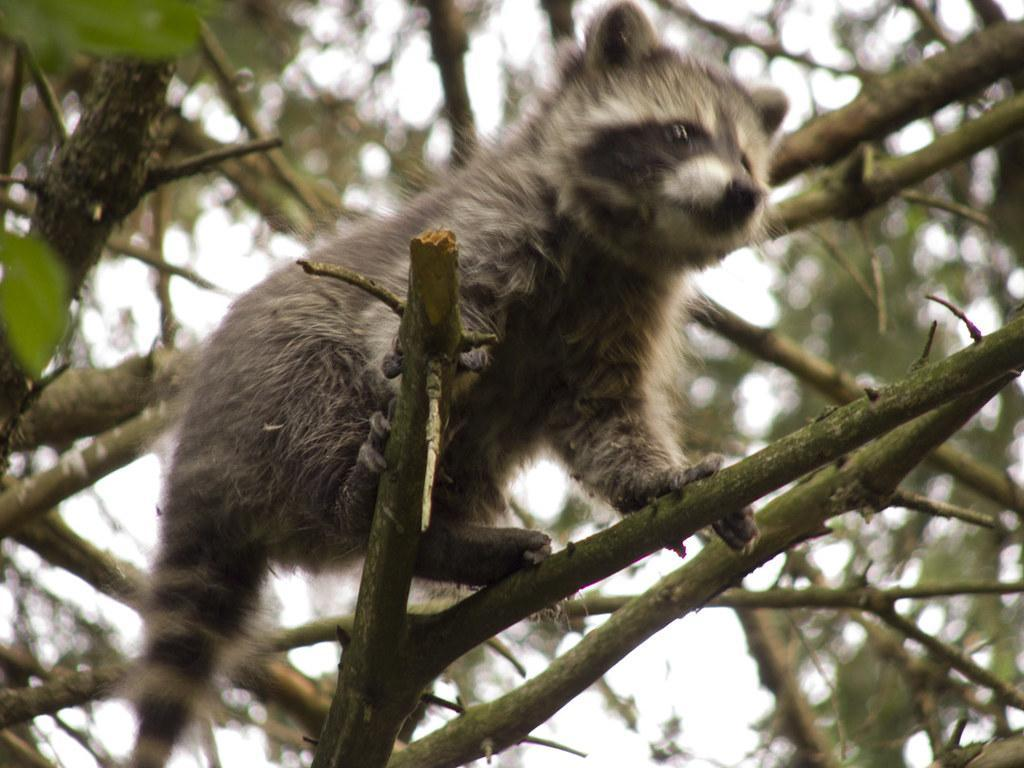raccoon: (120, 0, 791, 768)
